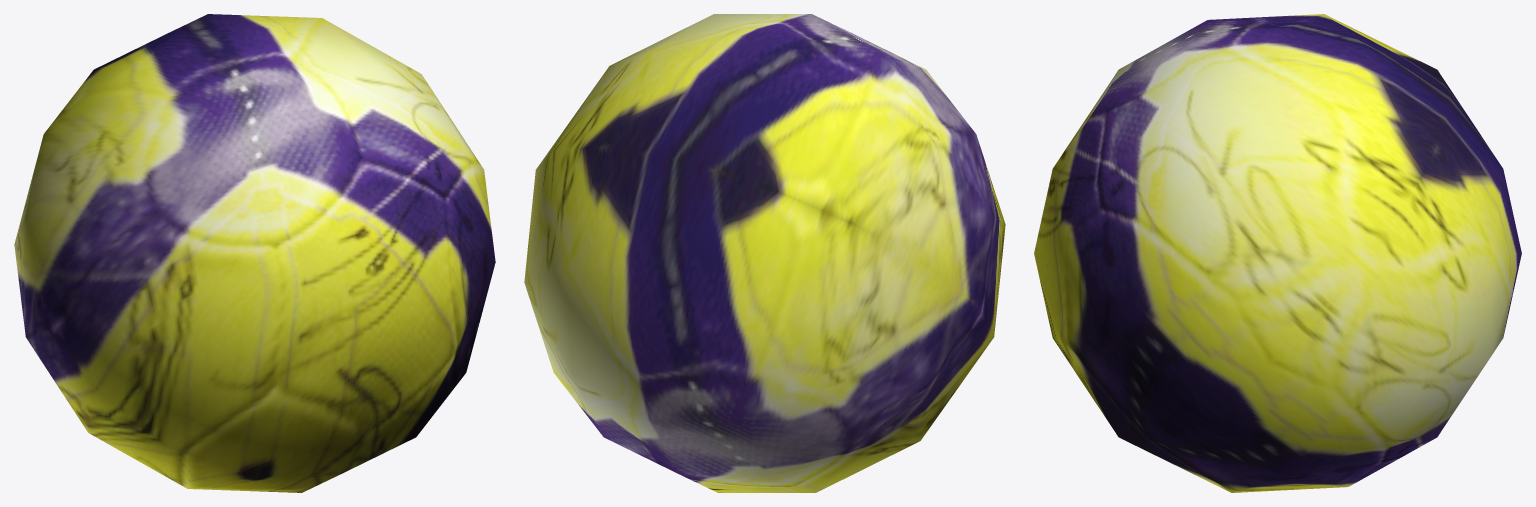
File: balon_viejo_023.FBX
The picture shows the model from 3 angles, left to right: view 1: azimuth 30°, elevation 25°; view 2: azimuth 150°, elevation 25°; view 3: azimuth 270°, elevation 25°; orthographic projection.
Visible parts, largest first — view 1: balon_viejo_023; view 2: balon_viejo_023; view 3: balon_viejo_023.
Part boxes in pixels (<box>): balon_viejo_023: <box>14,14,495,492</box>; balon_viejo_023: <box>524,14,1005,492</box>; balon_viejo_023: <box>1034,14,1521,492</box>.
Size of the model in its own units: 26.98 by 26.98 by 26.98.
